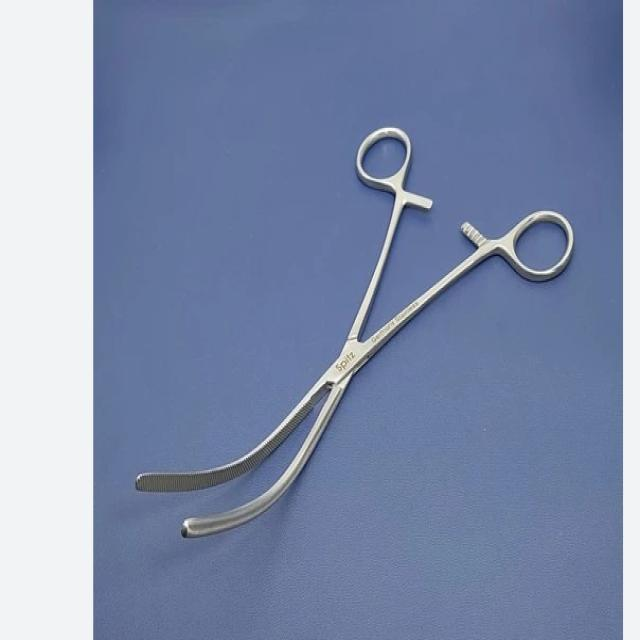Doyel Instestinal Forceps: (133, 120, 573, 541)
